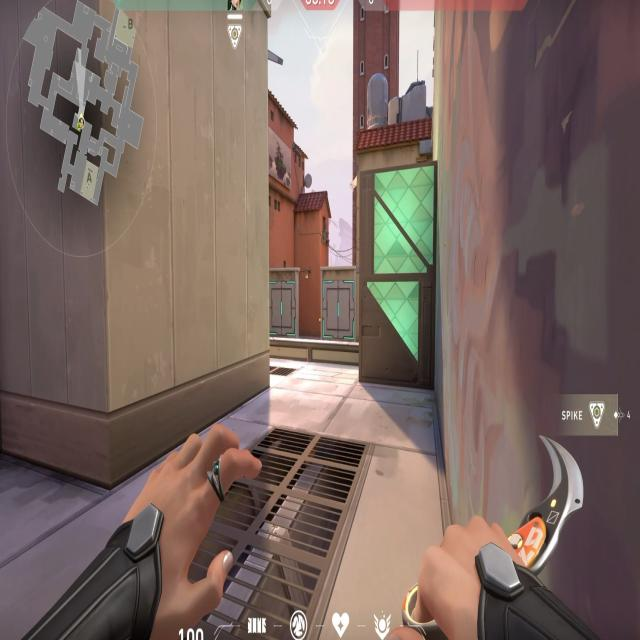Mid_Wall: (319, 263, 358, 346), (270, 264, 301, 342)
